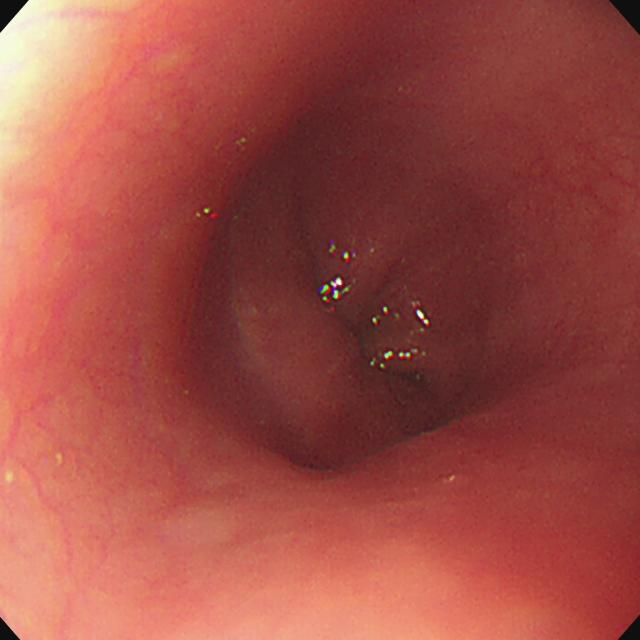U: (371, 348, 420, 371), (320, 277, 353, 303), (417, 308, 432, 328), (344, 252, 352, 265)
